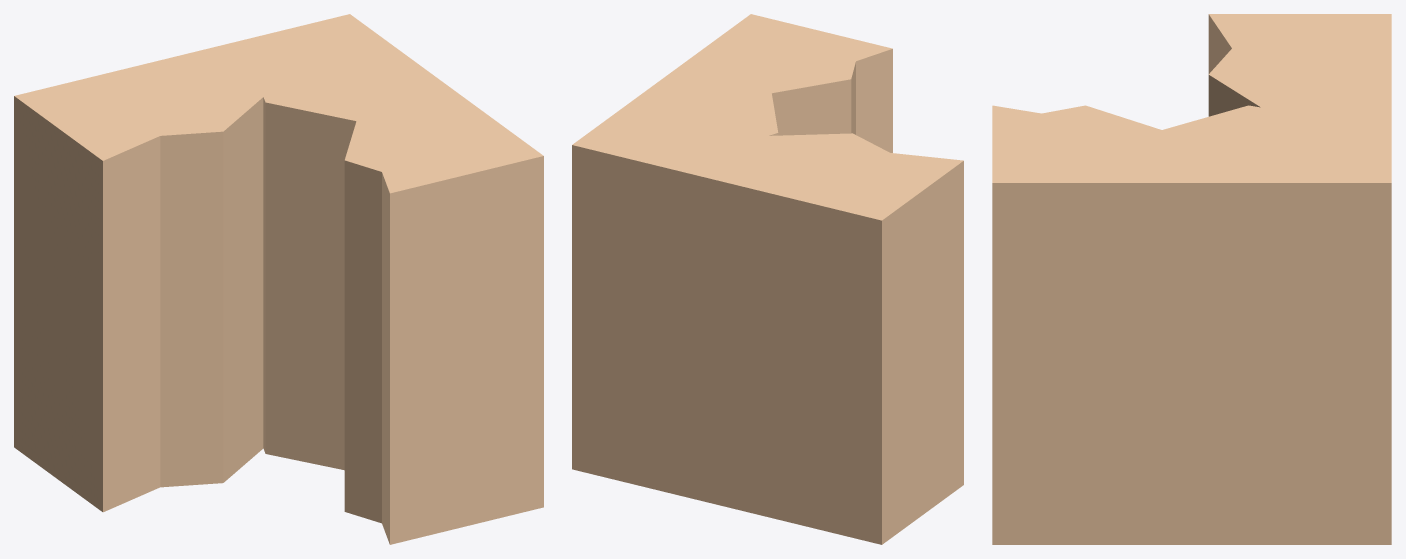
The model's file is cliffBrown_cornerInnerMid.gltf.
3 renders of one model, left to right at view 1: azimuth 30°, elevation 25°; view 2: azimuth 150°, elevation 25°; view 3: azimuth 270°, elevation 25°, orthographic. The views are drawn at different scales.
Parts seen in each view (by area): view 1: cliffBrown_cornerInnerMid; view 2: cliffBrown_cornerInnerMid; view 3: cliffBrown_cornerInnerMid.
Boxes of the visible parts, bbox=[...] form: cliffBrown_cornerInnerMid: bbox=[14, 14, 543, 544]; cliffBrown_cornerInnerMid: bbox=[572, 14, 963, 544]; cliffBrown_cornerInnerMid: bbox=[992, 14, 1391, 544].
Size of the model in its own units: 10 by 10 by 10.
